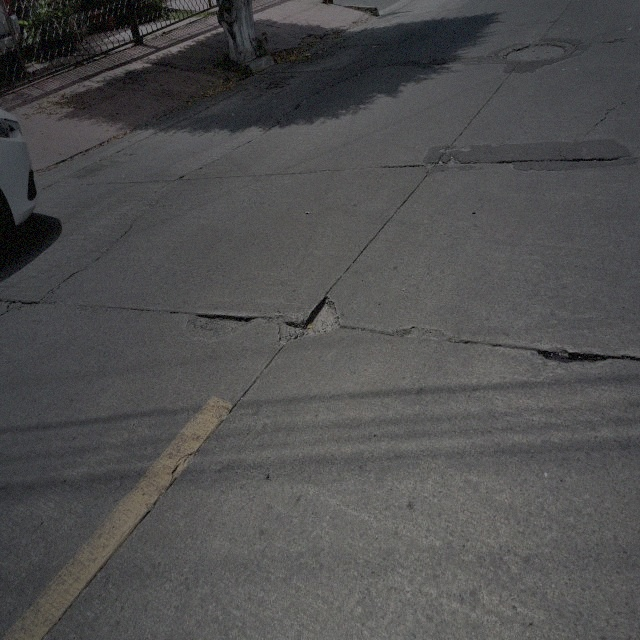pothole: (275, 288, 342, 346), (186, 309, 253, 342), (536, 343, 608, 370), (432, 153, 458, 168)
